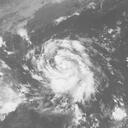cyclone: (39, 39, 91, 93)
